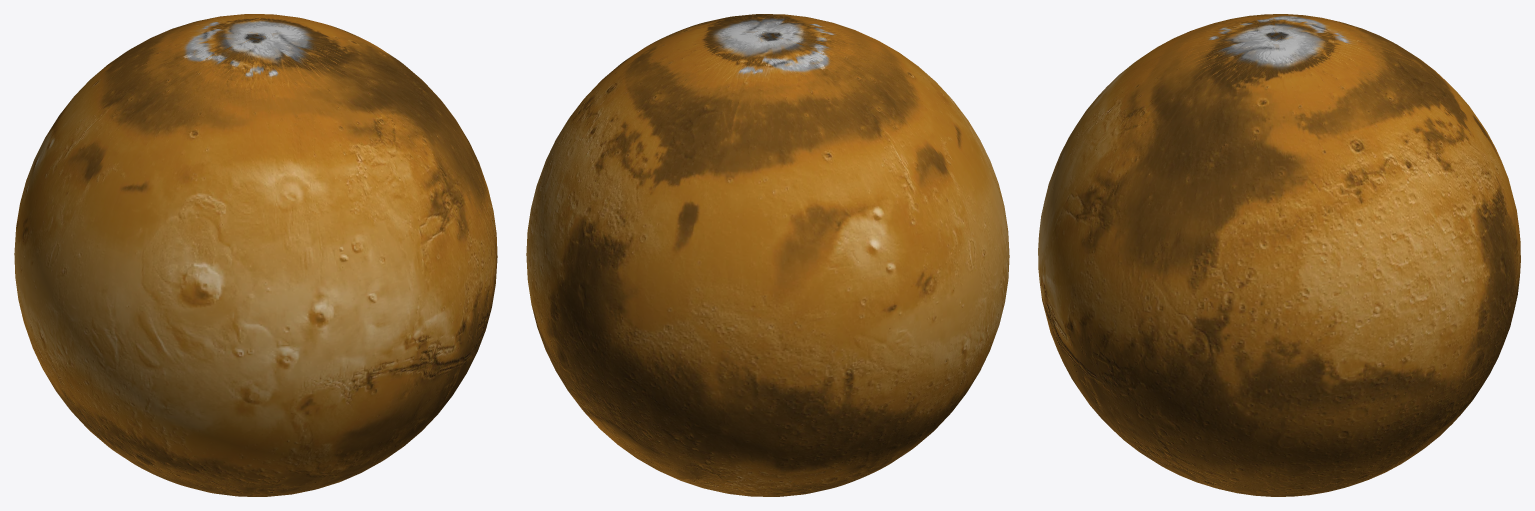
Rendered from mars.glb.
The picture shows the model from 3 angles, left to right: view 1: azimuth 30°, elevation 25°; view 2: azimuth 150°, elevation 25°; view 3: azimuth 270°, elevation 25°; orthographic projection.
Visible parts, largest first — view 1: core; view 2: core; view 3: core.
Boxes of the visible parts, x1,y1,x2,y2 form: core: [14, 14, 497, 496]; core: [526, 14, 1009, 496]; core: [1038, 14, 1520, 496].
Bounding box in the file's own units: 2 × 2 × 2.
Materials: 1 (1 with a texture image).
